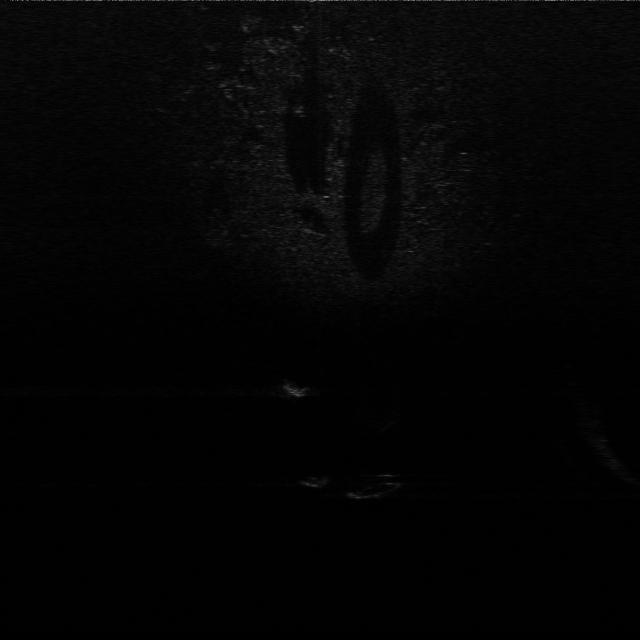cube: (298, 469, 333, 491)
square cage: (274, 372, 320, 402)
tyre: (348, 468, 404, 503)
